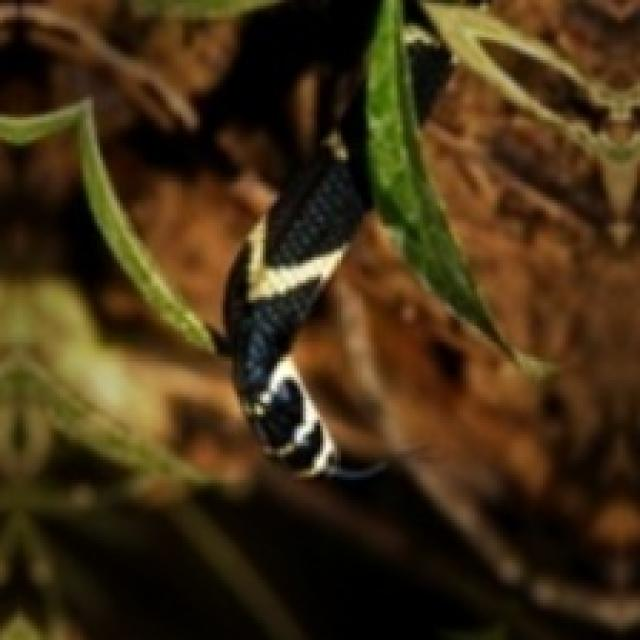king cobra: (294, 3, 637, 637), (220, 100, 383, 477), (369, 0, 486, 323)
